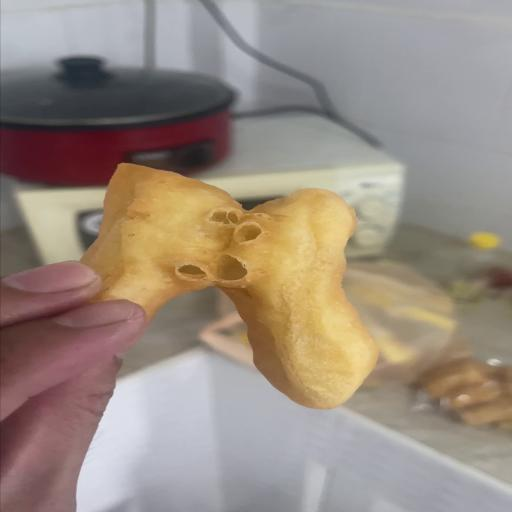street_golden_defect: (84, 165, 377, 408)
